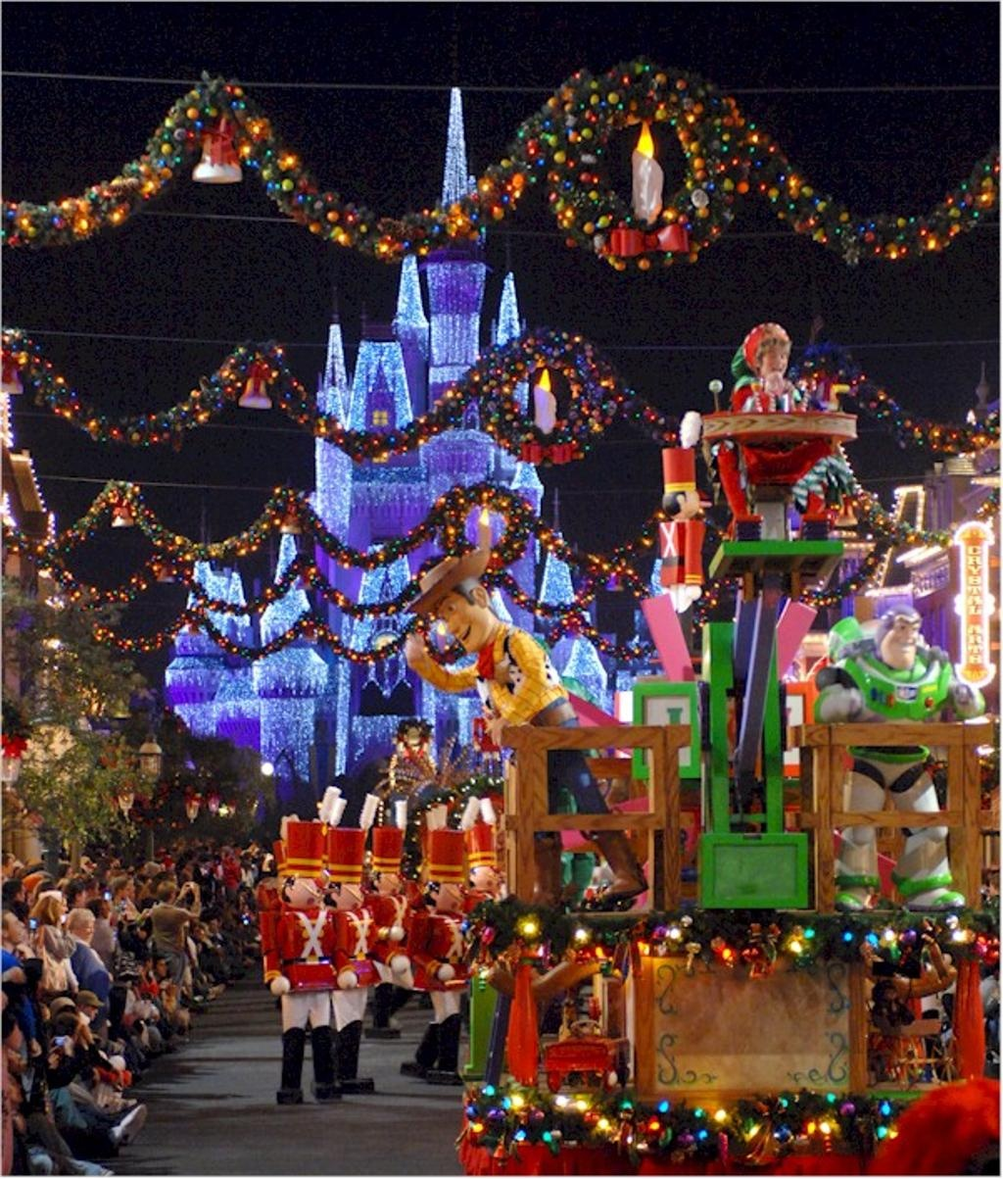human_face: (758, 348, 788, 379), (3, 910, 24, 942), (78, 917, 96, 939), (55, 895, 69, 920), (83, 1001, 97, 1020), (156, 958, 167, 977), (76, 888, 85, 907), (101, 899, 110, 918), (15, 883, 24, 901), (119, 881, 128, 899), (90, 879, 100, 895), (169, 886, 177, 904), (143, 956, 154, 969), (6, 858, 13, 875), (146, 865, 155, 878), (212, 919, 219, 932), (65, 865, 72, 878), (204, 858, 212, 869), (245, 853, 253, 864), (104, 867, 110, 879), (195, 927, 201, 937), (242, 904, 247, 915), (108, 844, 114, 853), (160, 850, 166, 858)
